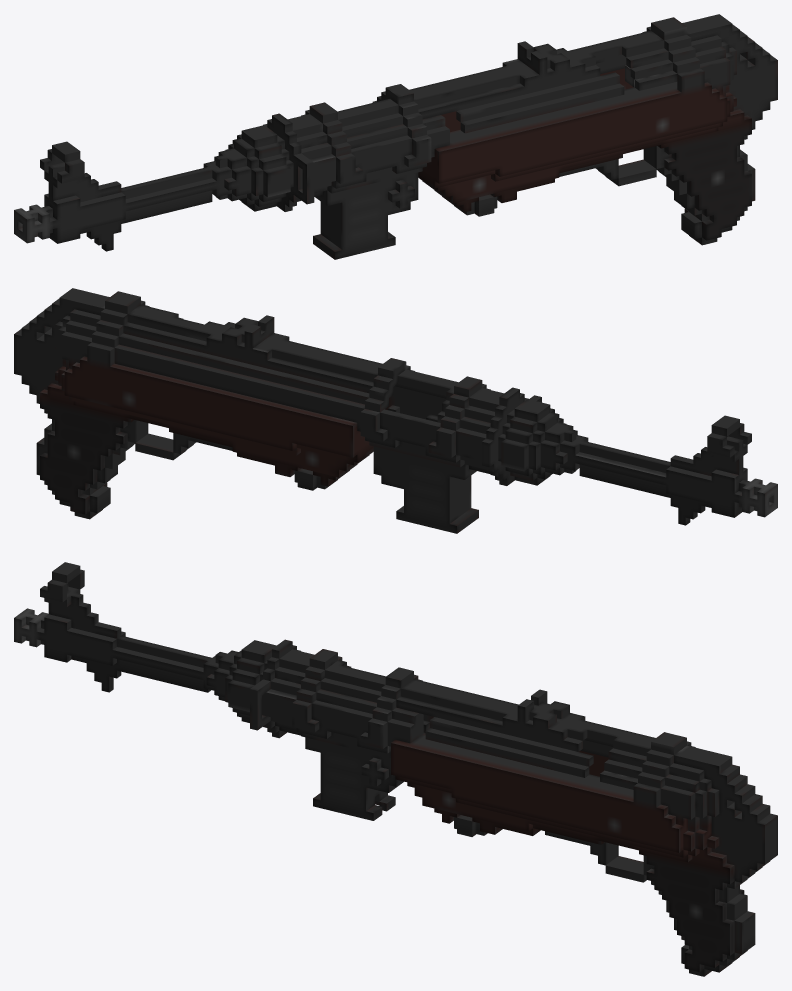
Rendered from MainGunMP40.fbx.
3 views of the same model, one above another, from view 1: azimuth 30°, elevation 25°; view 2: azimuth 150°, elevation 25°; view 3: azimuth 330°, elevation 25° (orthographic).
Parts seen in each view (by area): view 1: MainGunMP40.001; view 2: MainGunMP40.001; view 3: MainGunMP40.001.
Boxes of the visible parts, x1=… form: MainGunMP40.001: x1=14, y1=14, x2=777, y2=259; MainGunMP40.001: x1=14, y1=288, x2=777, y2=533; MainGunMP40.001: x1=14, y1=562, x2=777, y2=976.
Bounding box in the file's own units: 9.9 × 3.1 × 1.2.
Materials: 1 (1 with a texture image).
